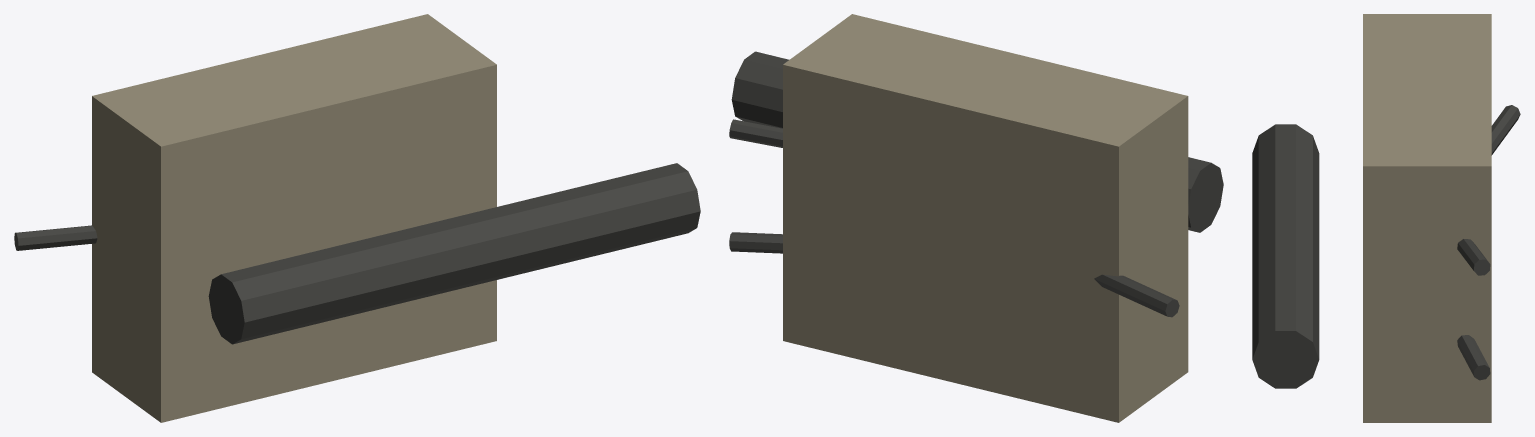
Rendered from atgm_team.glb.
The picture shows the model from 3 angles, left to right: view 1: azimuth 30°, elevation 25°; view 2: azimuth 150°, elevation 25°; view 3: azimuth 270°, elevation 25°; orthographic projection. The views are drawn at different scales.
Parts seen in each view (by area): view 1: geometry_0; view 2: geometry_0; view 3: geometry_0.
Part boxes in pixels (box(x1,y1,x2,y2)): geometry_0: box(14, 14, 700, 422); geometry_0: box(729, 14, 1223, 422); geometry_0: box(1252, 14, 1520, 422).
Size of the model in its own units: 2.28 by 1.1 by 1.04.
